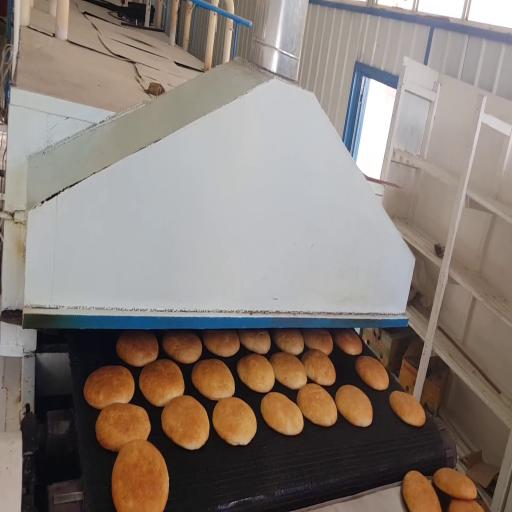bread: (112, 440, 169, 511), (162, 396, 209, 450), (96, 404, 150, 451), (84, 366, 134, 409), (139, 359, 184, 406), (213, 397, 256, 445), (261, 392, 303, 435), (192, 359, 234, 400), (297, 384, 337, 426), (402, 471, 441, 511), (335, 385, 372, 427), (116, 331, 158, 366), (237, 354, 274, 393), (433, 468, 477, 500), (270, 352, 307, 389), (163, 331, 202, 364), (390, 391, 425, 427), (302, 349, 335, 385), (355, 356, 389, 390), (203, 330, 239, 357), (302, 330, 333, 355), (238, 330, 270, 354), (334, 329, 362, 356), (273, 330, 303, 355), (449, 500, 483, 511)
